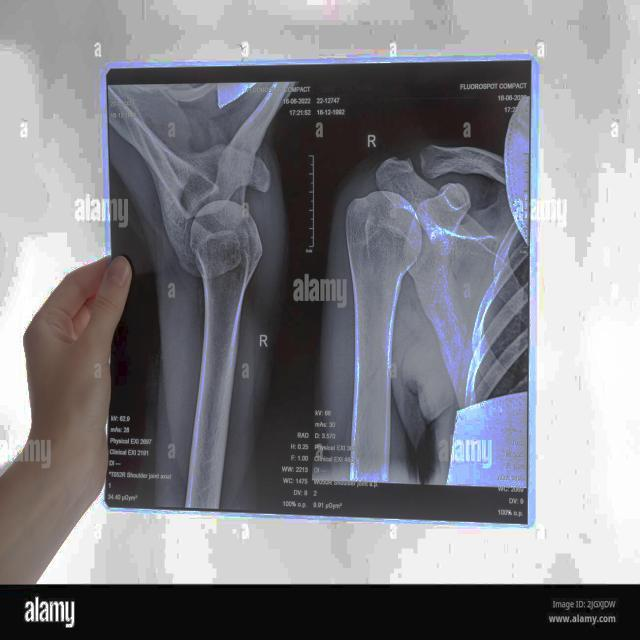Impact Fracture: (382, 146, 458, 224)
